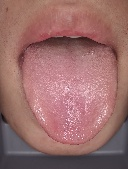tongue: (19, 51, 120, 148)
